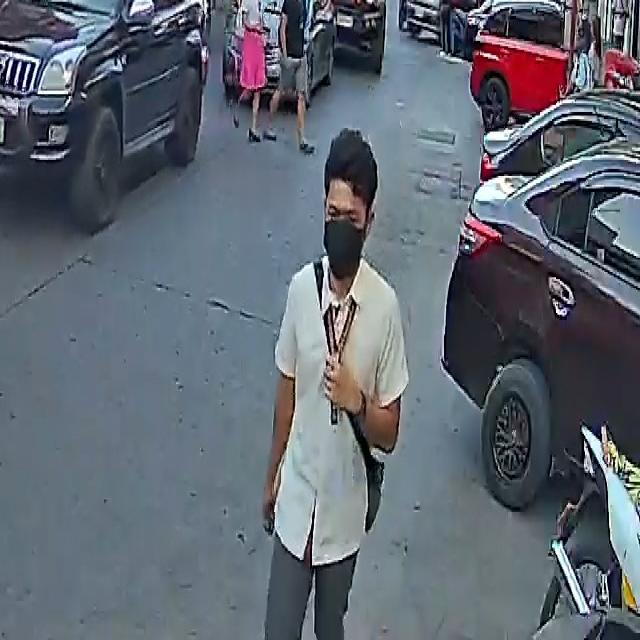car: (444, 82, 640, 528), (0, 0, 212, 235), (474, 0, 640, 132), (306, 0, 384, 68), (405, 0, 490, 48)
